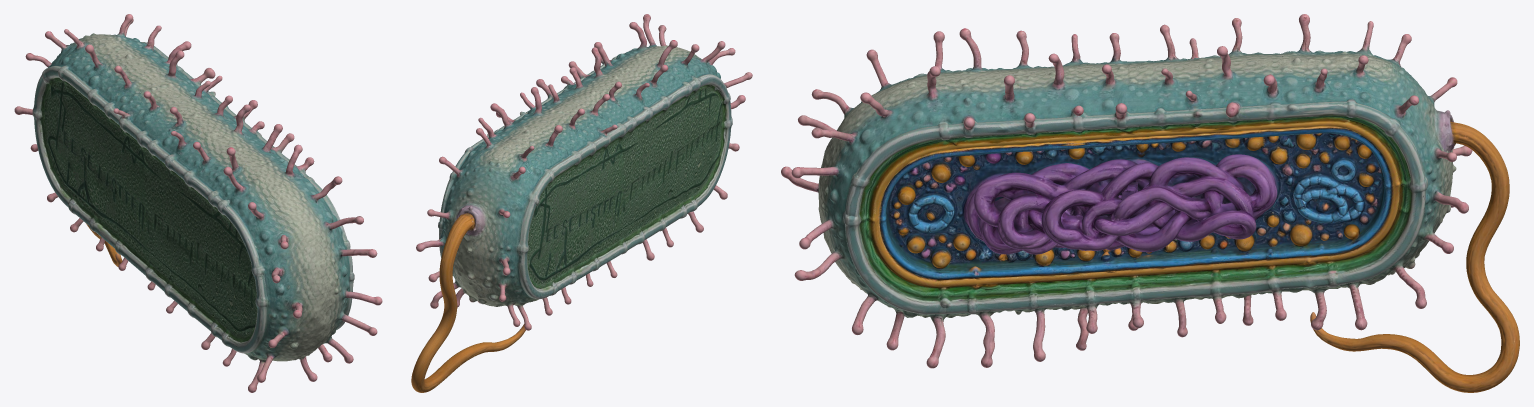
The model's file is bacteria-tripo-web.glb.
3 renders of one model, left to right at view 1: azimuth 30°, elevation 25°; view 2: azimuth 150°, elevation 25°; view 3: azimuth 270°, elevation 25°, orthographic. The views are drawn at different scales.
Visible parts, largest first — view 1: tripo_node_ff93a39a-83fb-4eb8-883b-c02f5335a8ef; view 2: tripo_node_ff93a39a-83fb-4eb8-883b-c02f5335a8ef; view 3: tripo_node_ff93a39a-83fb-4eb8-883b-c02f5335a8ef.
Boxes of the visible parts, x1=… form: tripo_node_ff93a39a-83fb-4eb8-883b-c02f5335a8ef: x1=14, y1=14, x2=382, y2=392; tripo_node_ff93a39a-83fb-4eb8-883b-c02f5335a8ef: x1=411, y1=14, x2=752, y2=392; tripo_node_ff93a39a-83fb-4eb8-883b-c02f5335a8ef: x1=781, y1=14, x2=1519, y2=392.
Bounding box in the file's own units: 0.246 × 0.4889 × 0.9796.
Materials: 1 (1 with a texture image).
